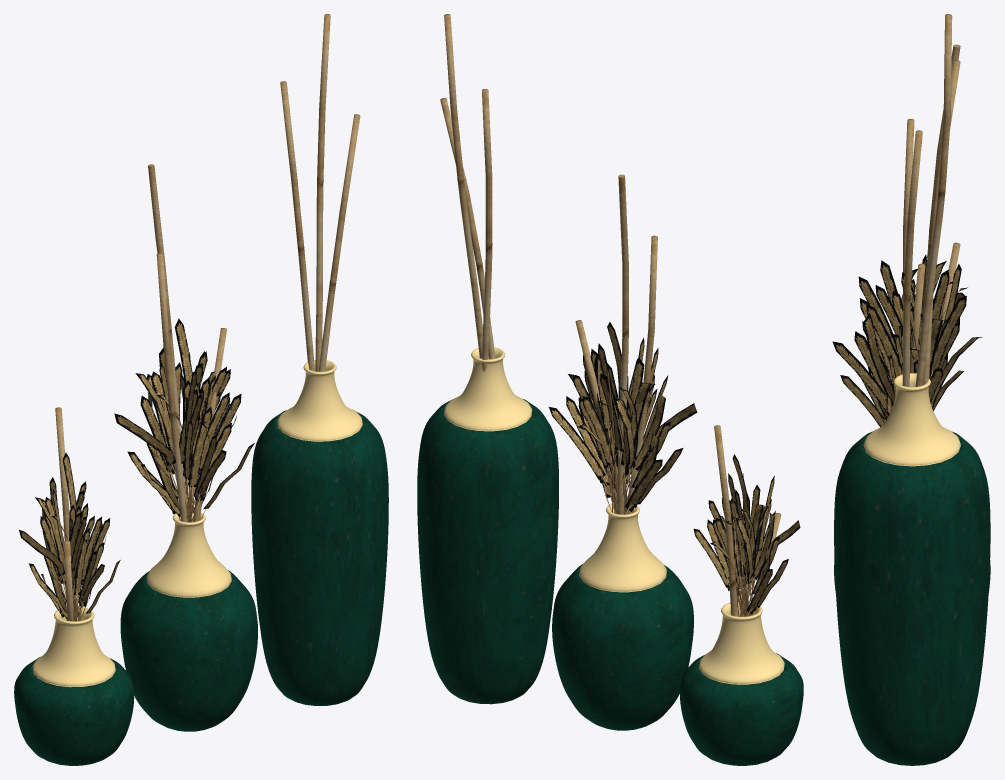
Rendered from skb565e460.glb.
The picture shows the model from 3 angles, left to right: view 1: azimuth 30°, elevation 25°; view 2: azimuth 150°, elevation 25°; view 3: azimuth 270°, elevation 25°; orthographic projection. The views are drawn at different scales.
Visible parts, largest first — view 1: VaseLong, VaseMiddle, Dry_Flower, VaseSmall_Bottom_0, Dry_Flower001, VaseSmall_Gold_0, Cylinder004, Cylinder005, Cylinder001, Cylinder006_Material #304_0, Cylinder002, Cylinder007_Material #304_0; view 2: VaseLong, VaseMiddle, Dry_Flower, VaseSmall_Bottom_0, Dry_Flower001, VaseSmall_Gold_0, Cylinder004, Cylinder002, Cylinder005, Cylinder001, Cylinder007_Material #304_0, Cylinder006_Material #304_0 (+1 smaller); view 3: VaseLong, Dry_Flower, Cylinder004, Cylinder006_Material #304_0, Cylinder005, Dry_Flower001, Cylinder001, Cylinder003_Material #304_0, Cylinder002, Cylinder007_Material #304_0.
Boxes of the visible parts, <box> form: VaseLong: <box>251,360,388,705</box>; VaseMiddle: <box>120,512,257,731</box>; Dry_Flower: <box>114,318,254,522</box>; VaseSmall_Bottom_0: <box>14,656,134,765</box>; Dry_Flower001: <box>19,452,120,621</box>; VaseSmall_Gold_0: <box>32,606,115,687</box>; Cylinder004: <box>315,14,330,371</box>; Cylinder005: <box>280,81,314,371</box>; Cylinder001: <box>156,253,187,522</box>; Cylinder006_Material #304_0: <box>318,114,360,371</box>; Cylinder002: <box>148,164,187,514</box>; Cylinder007_Material #304_0: <box>55,407,69,540</box>; VaseLong: <box>417,347,558,704</box>; VaseMiddle: <box>552,503,693,730</box>; Dry_Flower: <box>549,322,697,514</box>; VaseSmall_Bottom_0: <box>680,653,803,765</box>; Dry_Flower001: <box>693,454,800,616</box>; VaseSmall_Gold_0: <box>699,602,784,684</box>; Cylinder004: <box>444,14,482,358</box>; Cylinder002: <box>617,174,628,514</box>; Cylinder005: <box>482,89,492,371</box>; Cylinder001: <box>626,235,657,514</box>; Cylinder007_Material #304_0: <box>714,425,737,616</box>; Cylinder006_Material #304_0: <box>440,98,495,359</box>; VaseLong: <box>834,373,990,765</box>; Dry_Flower: <box>832,254,982,415</box>; Cylinder004: <box>915,14,952,386</box>; Cylinder006_Material #304_0: <box>902,130,922,386</box>; Cylinder005: <box>923,60,960,386</box>; Dry_Flower001: <box>840,321,963,427</box>; Cylinder001: <box>903,119,914,305</box>; Cylinder003_Material #304_0: <box>910,263,925,373</box>; Cylinder002: <box>925,44,960,295</box>; Cylinder007_Material #304_0: <box>939,242,960,325</box>.
Size of the model in its own units: 0.5705 by 1 by 0.1912.
4 materials, 3 textured.
